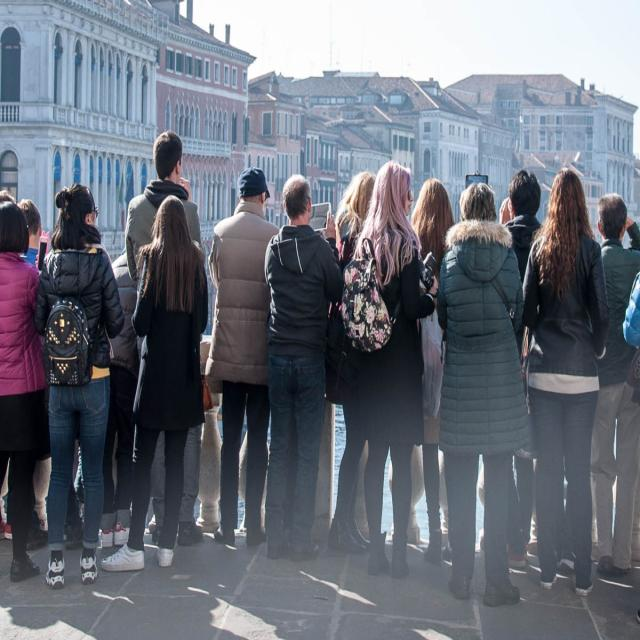body: (434, 176, 532, 614), (339, 162, 440, 582), (99, 193, 210, 575), (519, 164, 613, 599), (32, 181, 126, 589), (258, 172, 346, 565), (124, 130, 205, 550), (206, 165, 282, 547), (14, 196, 87, 552), (324, 170, 377, 558), (588, 191, 640, 578), (407, 177, 458, 566), (98, 244, 141, 550), (0, 190, 20, 543), (497, 169, 547, 277), (623, 269, 640, 413), (15, 197, 45, 271)
